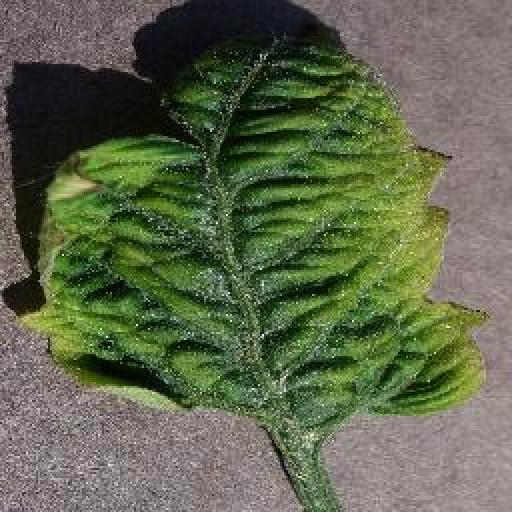disease_tomato: (15, 32, 491, 418)
